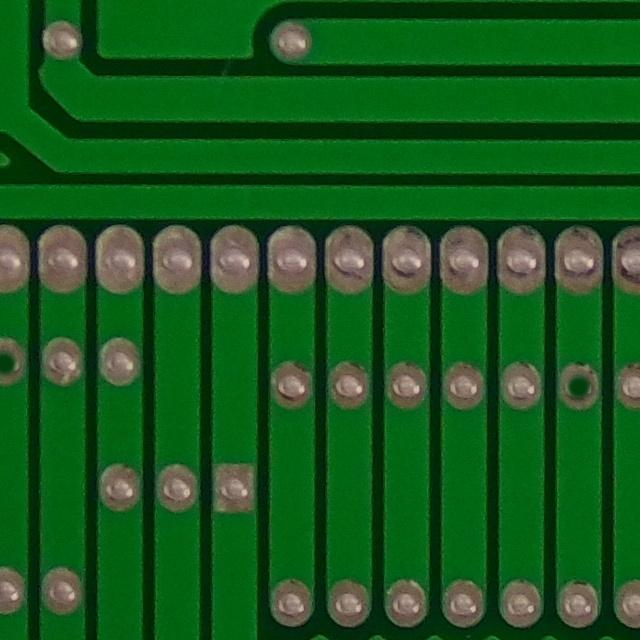missing_hole: (555, 350, 608, 422)
